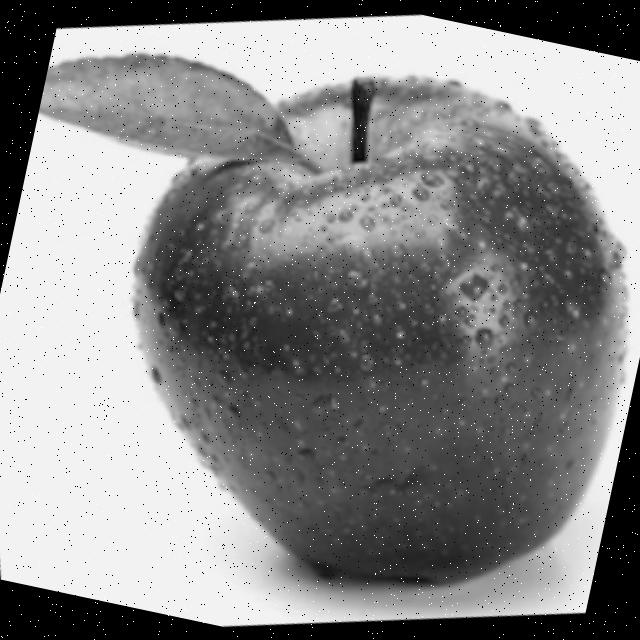Ripe: (70, 13, 640, 634)
